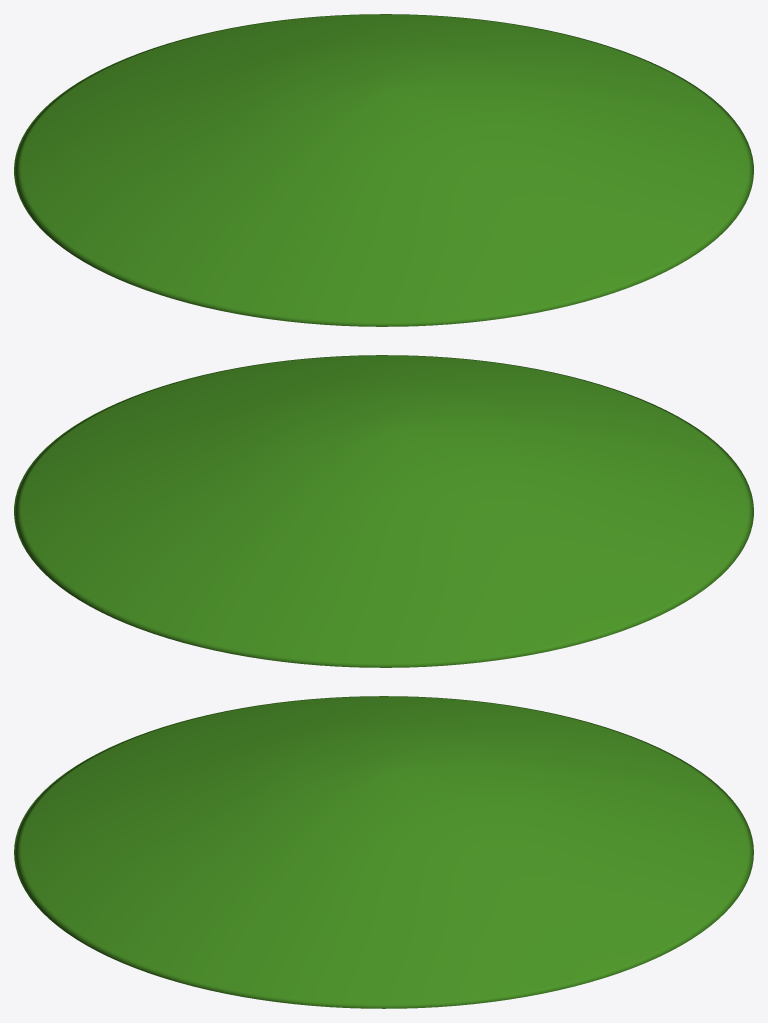
The model's file is slight_hill_grass.fbx.
The picture shows the model from 3 angles, top to bottom: view 1: azimuth 30°, elevation 25°; view 2: azimuth 150°, elevation 25°; view 3: azimuth 270°, elevation 25°; orthographic projection.
Parts seen in each view (by area): view 1: Circle; view 2: Circle; view 3: Circle.
Boxes of the visible parts, x1,y1,x2,y2 form: Circle: (14,14,753,326); Circle: (14,355,753,667); Circle: (14,696,753,1008).
Size of the model in its own units: 925 by 120 by 925.
